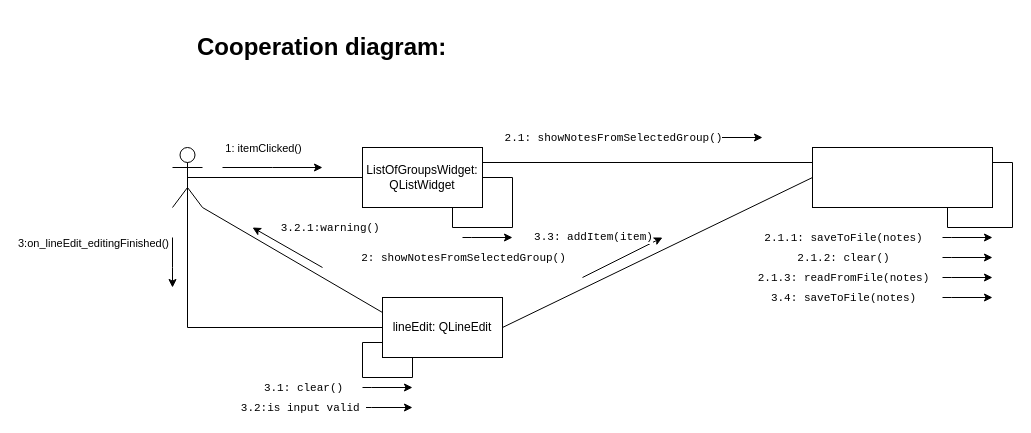
The diagram is 1031 pixels wide and 433 high, and some of its shapes have lost their labels. Each missing label, with the centre of its shape:
ListOfNotesWidget:QListWidget: (x=902, y=177)
User: (x=187, y=177)
